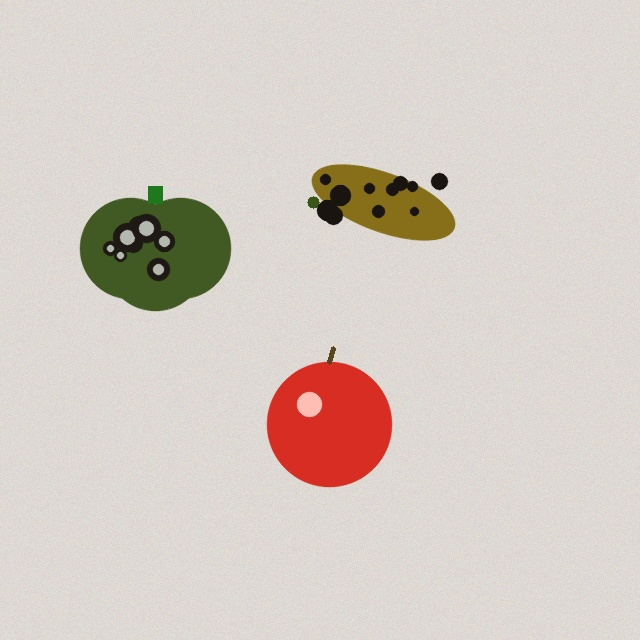Fresh apple: (267, 348, 391, 486)
Rotten banana: (305, 166, 461, 238)
Rotten bell pepper: (80, 186, 230, 310)
